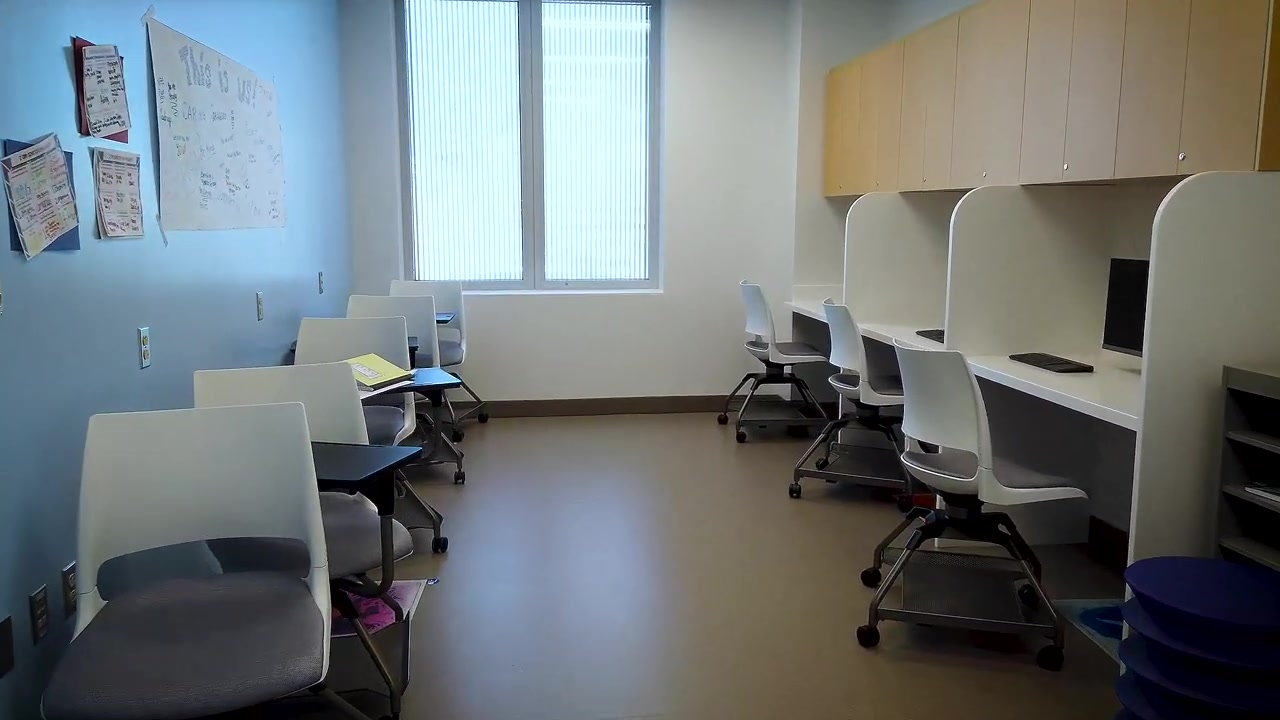cabinet: (754, 1, 1280, 180)
chair: (38, 403, 332, 720), (190, 360, 422, 720), (853, 337, 1091, 671), (292, 316, 449, 554), (788, 295, 917, 514), (342, 295, 468, 486), (717, 280, 846, 444), (390, 281, 489, 444)
computer: (1100, 257, 1149, 359)
countertop: (968, 356, 1142, 434), (857, 324, 942, 355), (787, 297, 844, 324)
keyboard: (1007, 351, 1095, 373), (917, 330, 943, 345)
